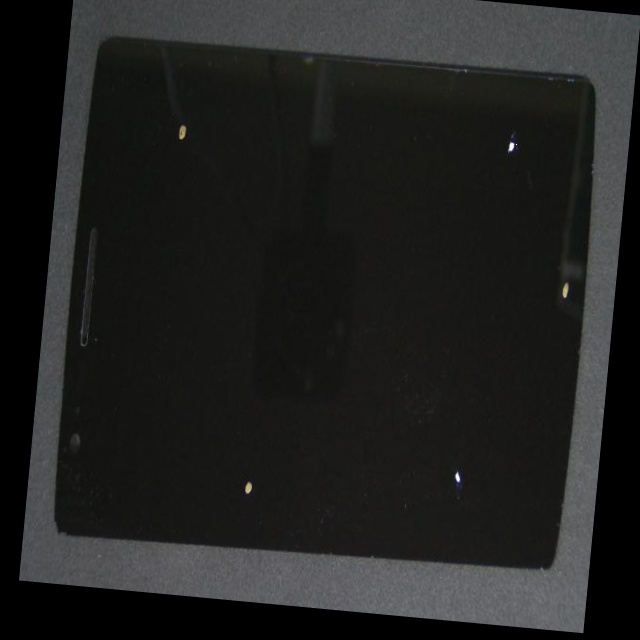stain: (249, 202, 621, 633), (282, 163, 625, 544), (135, 181, 382, 611), (267, 32, 636, 232), (98, 31, 239, 251)
